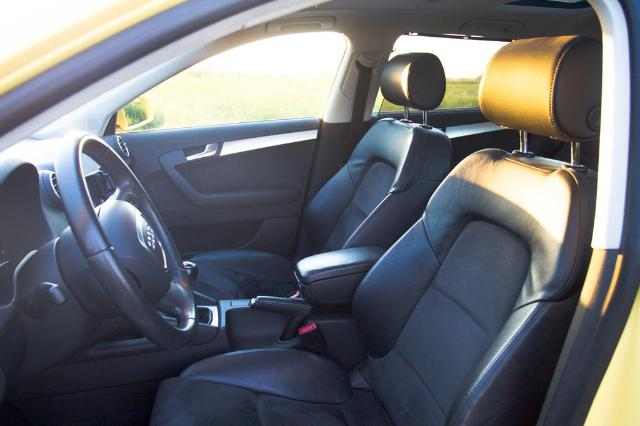Seatbelt: (340, 61, 372, 170)
